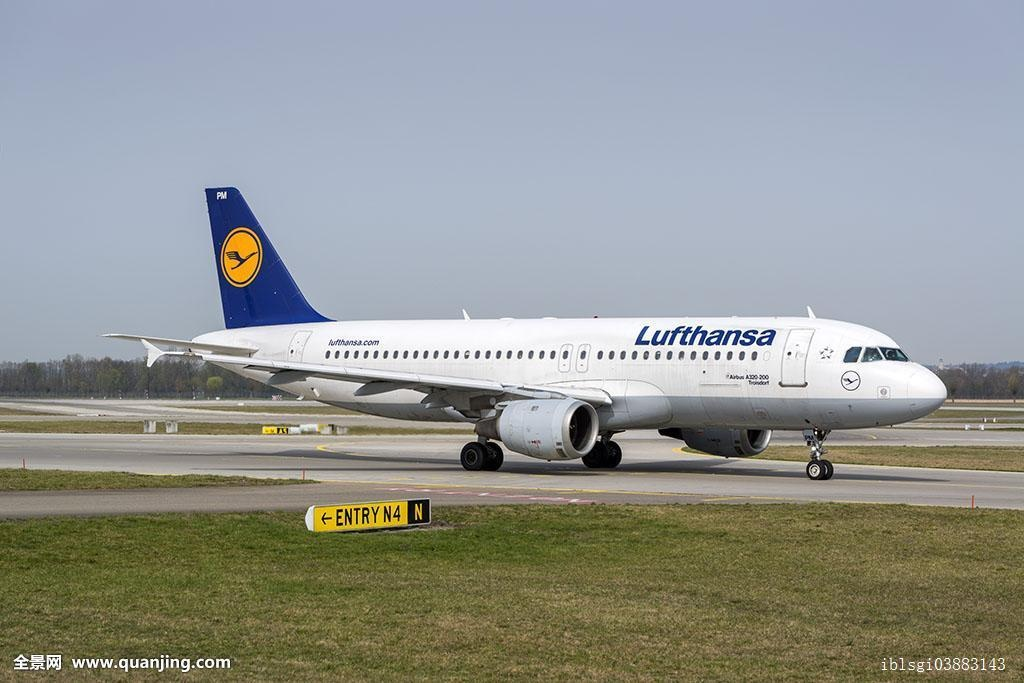airplane: (93, 185, 954, 474)
